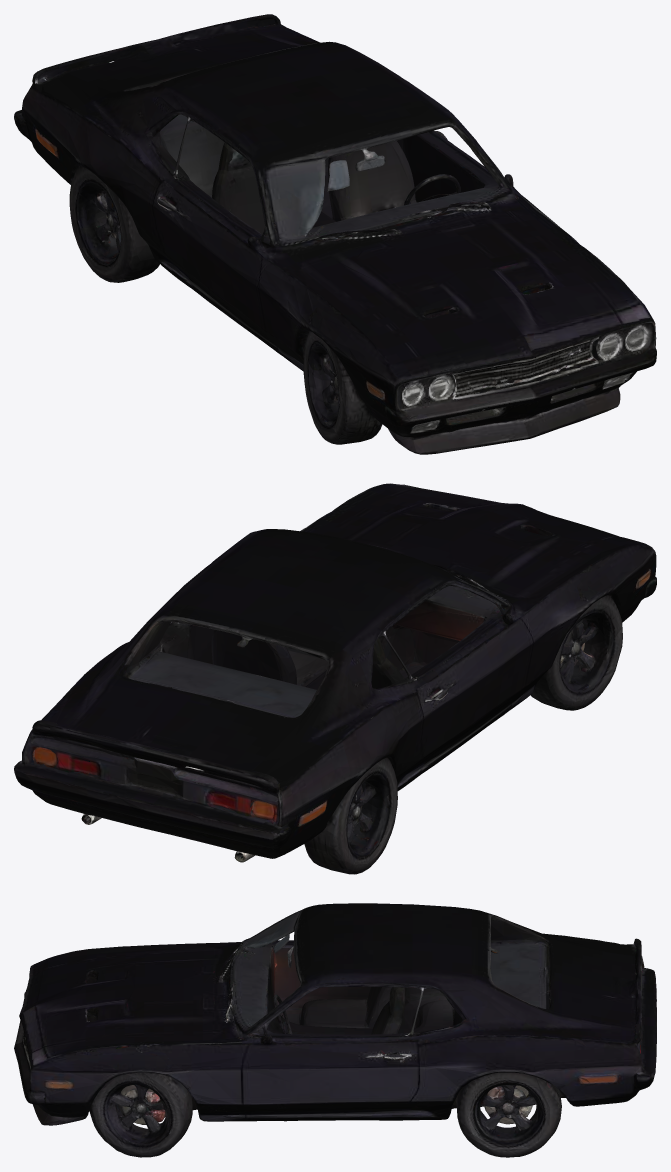
File: car_muscle.glb
The picture shows the model from 3 angles, top to bottom: view 1: azimuth 30°, elevation 25°; view 2: azimuth 150°, elevation 25°; view 3: azimuth 270°, elevation 25°; orthographic projection. The views are drawn at different scales.
Parts seen in each view (by area): view 1: world; view 2: world; view 3: world.
Boxes of the visible parts, x1=… form: world: x1=14, y1=14, x2=656, y2=454; world: x1=14, y1=483, x2=656, y2=874; world: x1=14, y1=903, x2=656, y2=1157.
Bounding box in the file's own units: 0.8528 × 0.5883 × 1.99.
1 material, 1 textured.
